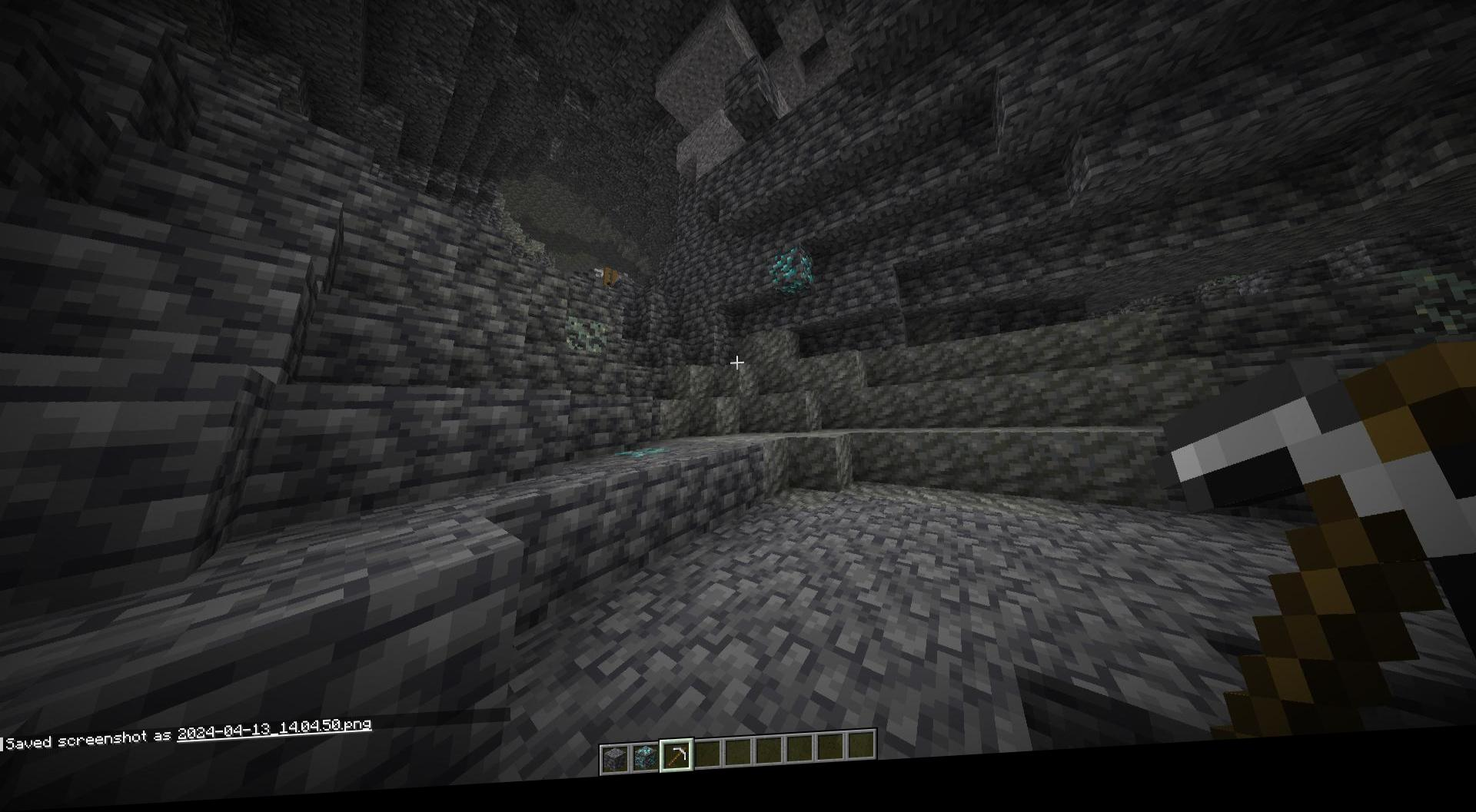diamond ore: (617, 448, 669, 470), (771, 285, 810, 307), (769, 258, 796, 289), (797, 259, 815, 295)
